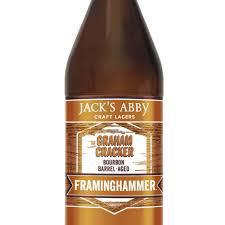beer: (64, 1, 164, 225)
